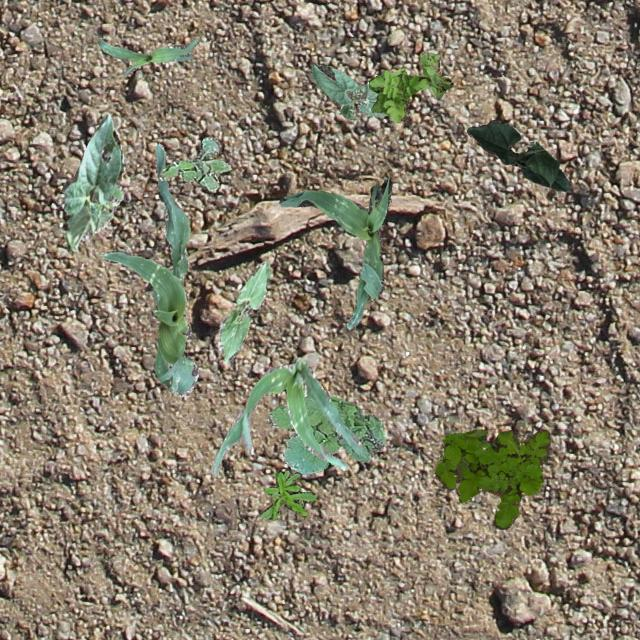crop: (96, 142, 198, 396), (210, 360, 366, 476), (278, 178, 391, 328), (61, 113, 122, 250), (466, 118, 568, 190), (217, 260, 270, 360), (310, 63, 386, 119), (96, 36, 198, 74)
weed: (434, 428, 550, 528), (266, 396, 384, 472), (368, 51, 452, 120), (158, 136, 230, 190), (260, 469, 316, 518)
